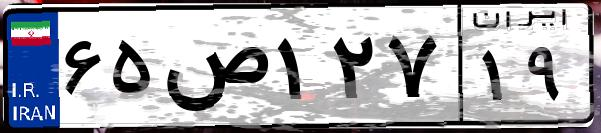1: (270, 28, 330, 110), (475, 38, 525, 113)
2: (330, 28, 385, 110)
5: (110, 28, 158, 98)
6: (57, 26, 110, 100)
7: (385, 28, 445, 110)
9: (525, 38, 570, 115)
ص: (158, 20, 270, 120)
